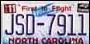placa de veiculo: (2, 1, 88, 43)
